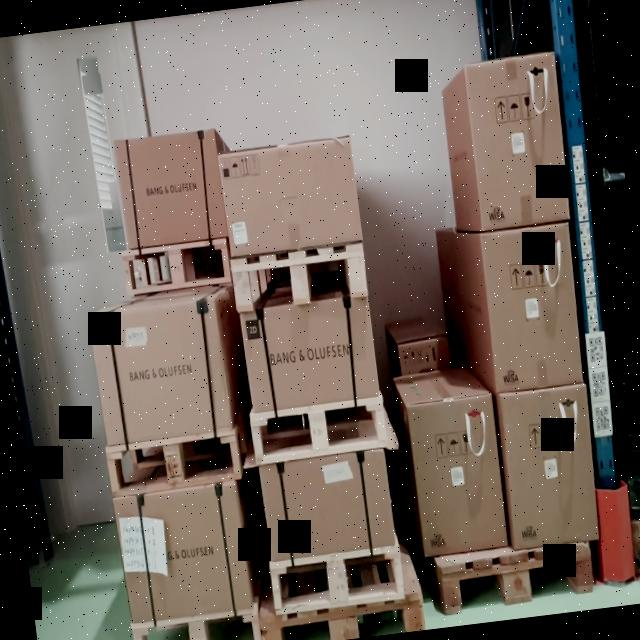box: (462, 54, 571, 231), (92, 302, 228, 442), (116, 483, 249, 624), (479, 224, 582, 390), (220, 136, 361, 256), (496, 386, 600, 548), (242, 296, 381, 412), (409, 398, 506, 554), (258, 453, 394, 559), (114, 128, 228, 248)
